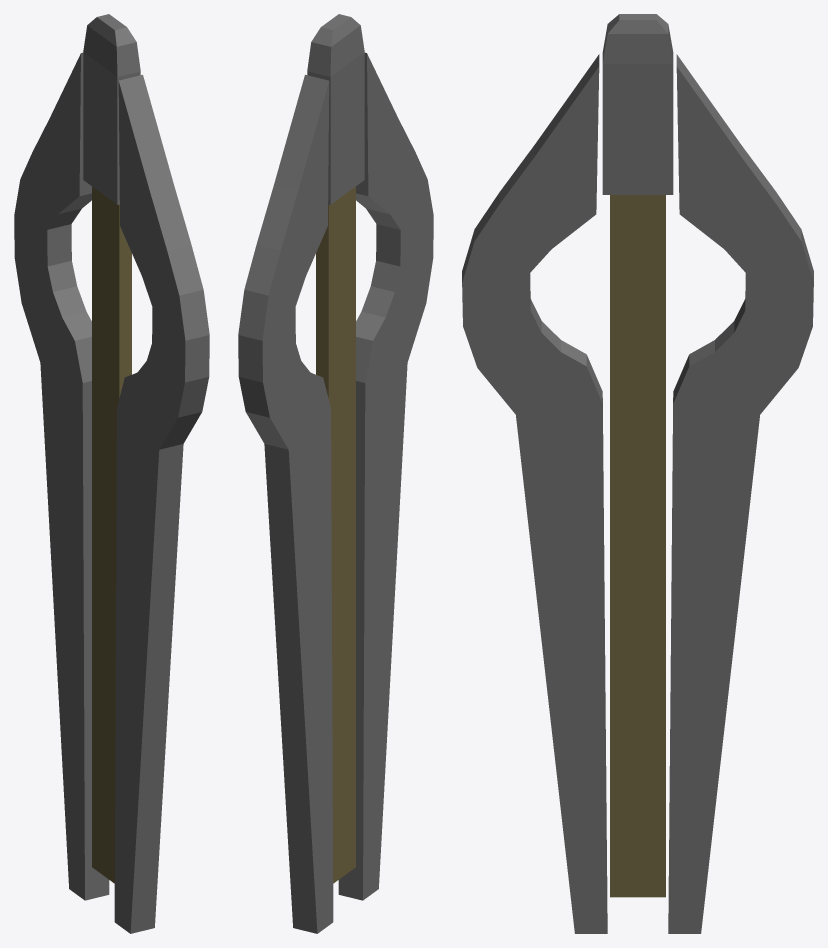
File: ShanQobus.fbx
3 views of the same model, side by side, from view 1: azimuth 30°, elevation 25°; view 2: azimuth 150°, elevation 25°; view 3: azimuth 270°, elevation 25° (orthographic). The views are drawn at different scales.
Visible parts, largest first — view 1: Cube, Cube.002, Cube.001; view 2: Cube, Cube.002, Cube.001; view 3: Cube, Cube.002, Cube.001.
Part boxes in pixels (x1,y1,x2,y2): Cube: (14,52,209,933); Cube.002: (92,186,131,883); Cube.001: (83,14,140,204); Cube: (238,52,433,933); Cube.002: (316,186,355,883); Cube.001: (307,14,364,204); Cube: (462,54,813,933); Cube.002: (610,195,665,897); Cube.001: (602,14,673,194).
Size of the model in its own units: 7.84 by 273 by 95.6.
